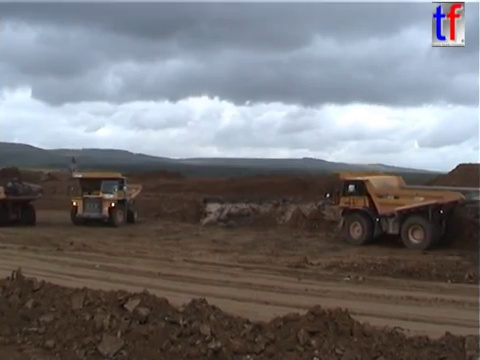truck: (324, 168, 480, 251), (66, 170, 143, 227), (1, 178, 44, 227)
